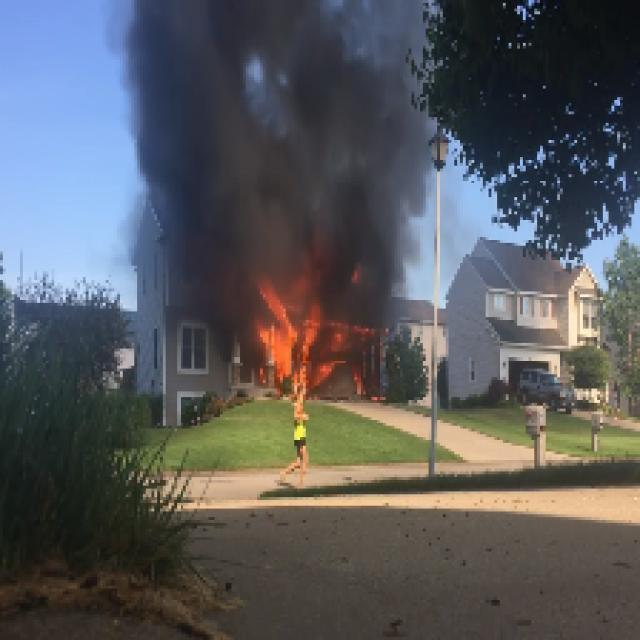Fire: (259, 312, 335, 398)
Smoke: (155, 5, 428, 286)
